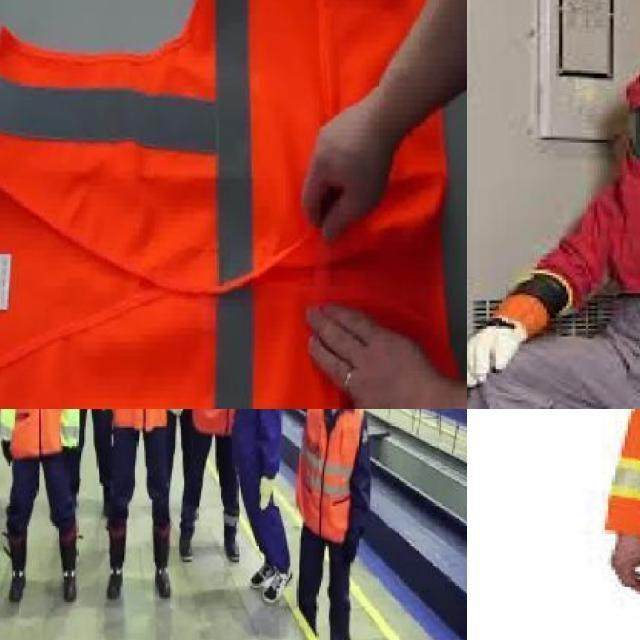apron: (467, 292, 524, 389), (345, 530, 359, 558), (61, 444, 78, 466), (0, 440, 13, 465), (100, 409, 113, 431)
